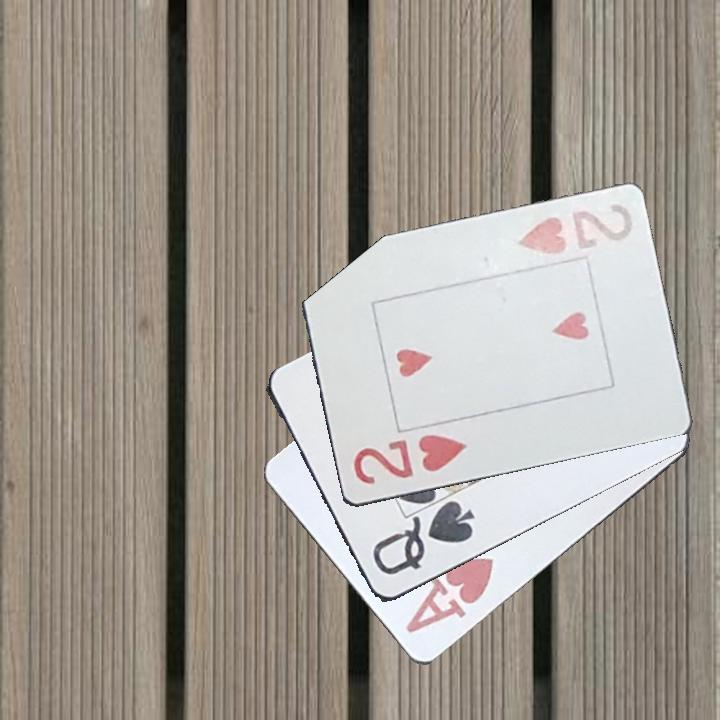2h: (513, 200, 639, 263), (349, 431, 470, 488)
Ah: (402, 552, 500, 637)
Qs: (369, 497, 478, 579)
